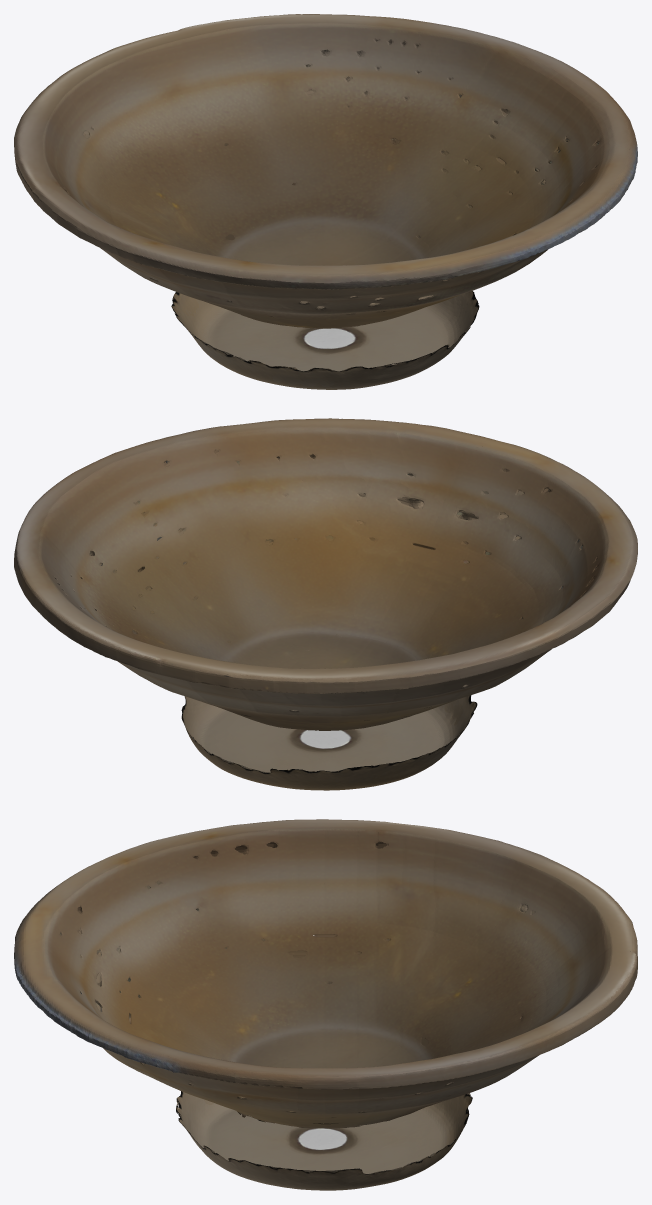
The model's file is prediction.glb.
The picture shows the model from 3 angles, top to bottom: view 1: azimuth 30°, elevation 25°; view 2: azimuth 150°, elevation 25°; view 3: azimuth 270°, elevation 25°; orthographic projection.
Visible parts, largest first — view 1: 0_geometry_0, 1_geometry_0; view 2: 0_geometry_0, 1_geometry_0; view 3: 0_geometry_0, 1_geometry_0.
Boxes of the visible parts, x1,y1,x2,y2 form: 0_geometry_0: (14,14,637,328); 1_geometry_0: (171,291,479,389); 0_geometry_0: (14,418,637,730); 1_geometry_0: (181,695,477,790); 0_geometry_0: (14,819,637,1128); 1_geometry_0: (176,1091,472,1190).
Bounding box in the file's own units: 0.9882 × 0.3414 × 0.9992.
2 materials, 2 textured.
